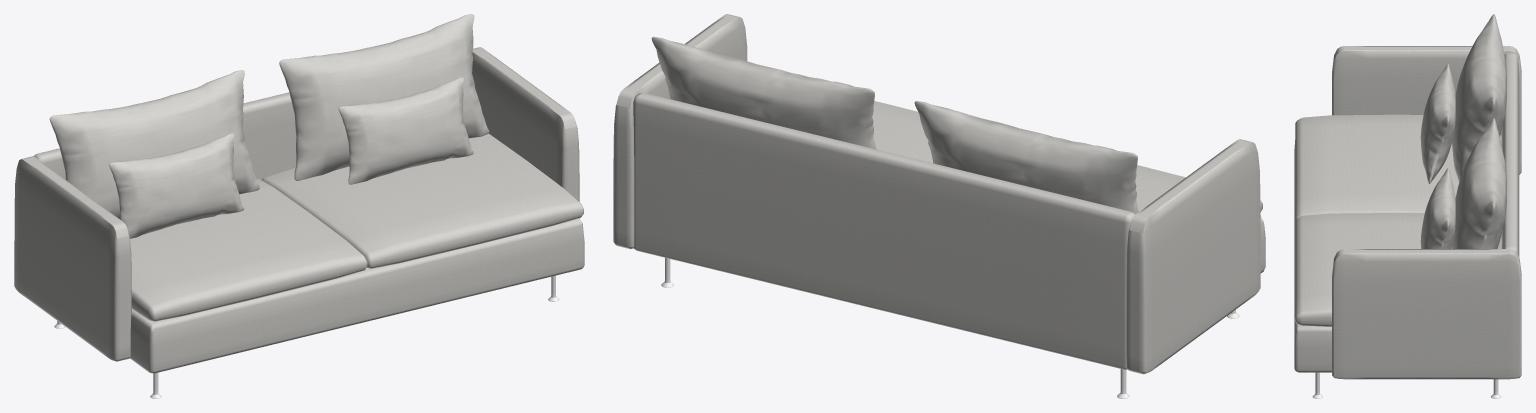
3 views of the same model, side by side, from view 1: azimuth 30°, elevation 25°; view 2: azimuth 150°, elevation 25°; view 3: azimuth 270°, elevation 25° (orthographic). The views are drawn at different scales.
Visible parts, largest first — view 1: Low, pCube7, pCube15, pCube14, pCube11, Pillow1:Mesh, pCube16, pCube10; view 2: pCube10, pCube11, Low, Pillow1:Mesh, pCube16, pCube15, pCube14; view 3: pCube16, pCube14, Low, pCube11, pCube15, Pillow1:Mesh, pCube10, pCube7.
Boxes of the visible parts, bbox=[...] form: Low: bbox=[49, 70, 473, 238]; pCube7: bbox=[130, 218, 584, 373]; pCube15: bbox=[262, 133, 583, 268]; pCube14: bbox=[130, 179, 367, 321]; pCube11: bbox=[14, 156, 131, 361]; Pillow1:Mesh: bbox=[279, 14, 489, 180]; pCube16: bbox=[472, 47, 579, 218]; pCube10: bbox=[33, 92, 296, 180]; pCube10: bbox=[633, 93, 1135, 369]; pCube11: bbox=[1126, 139, 1260, 374]; Low: bbox=[914, 101, 1138, 214]; Pillow1:Mesh: bbox=[651, 36, 876, 149]; pCube16: bbox=[613, 14, 747, 249]; pCube15: bbox=[872, 101, 933, 163]; pCube14: bbox=[1135, 165, 1262, 212]; pCube16: bbox=[1332, 249, 1521, 379]; pCube14: bbox=[1295, 114, 1500, 220]; Low: bbox=[1420, 14, 1506, 248]; pCube11: bbox=[1332, 46, 1521, 174]; pCube15: bbox=[1295, 213, 1500, 326]; Pillow1:Mesh: bbox=[1452, 118, 1506, 248]; pCube10: bbox=[1502, 53, 1519, 256]; pCube7: bbox=[1294, 135, 1501, 372].
Bounding box in the file's own units: 2 × 0.8725 × 0.9059.
1 material, 1 textured.
